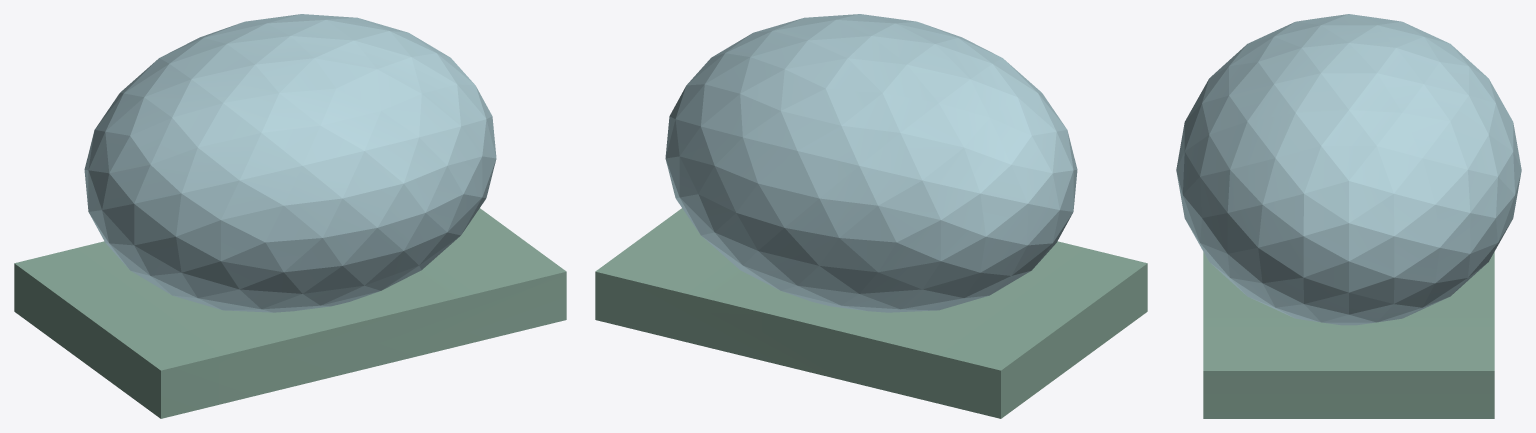
The model's file is observatory-08.glb.
3 views of the same model, side by side, from view 1: azimuth 30°, elevation 25°; view 2: azimuth 150°, elevation 25°; view 3: azimuth 270°, elevation 25° (orthographic).
Visible parts, largest first — view 1: world; view 2: world; view 3: world.
Boxes of the visible parts, x1,y1,x2,y2 form: world: (14,14,566,418); world: (595,14,1147,418); world: (1176,14,1521,418).
Bounding box in the file's own units: 1.76 × 1.16 × 1.31.
